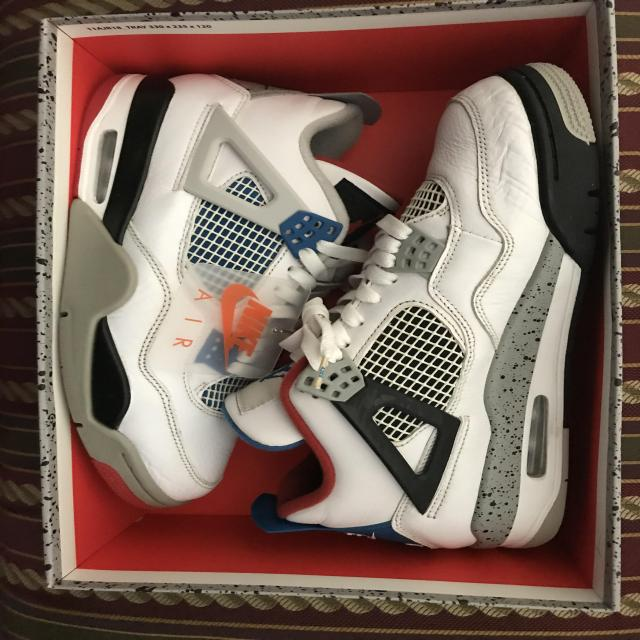shoe: (265, 54, 601, 560), (62, 66, 342, 509)
